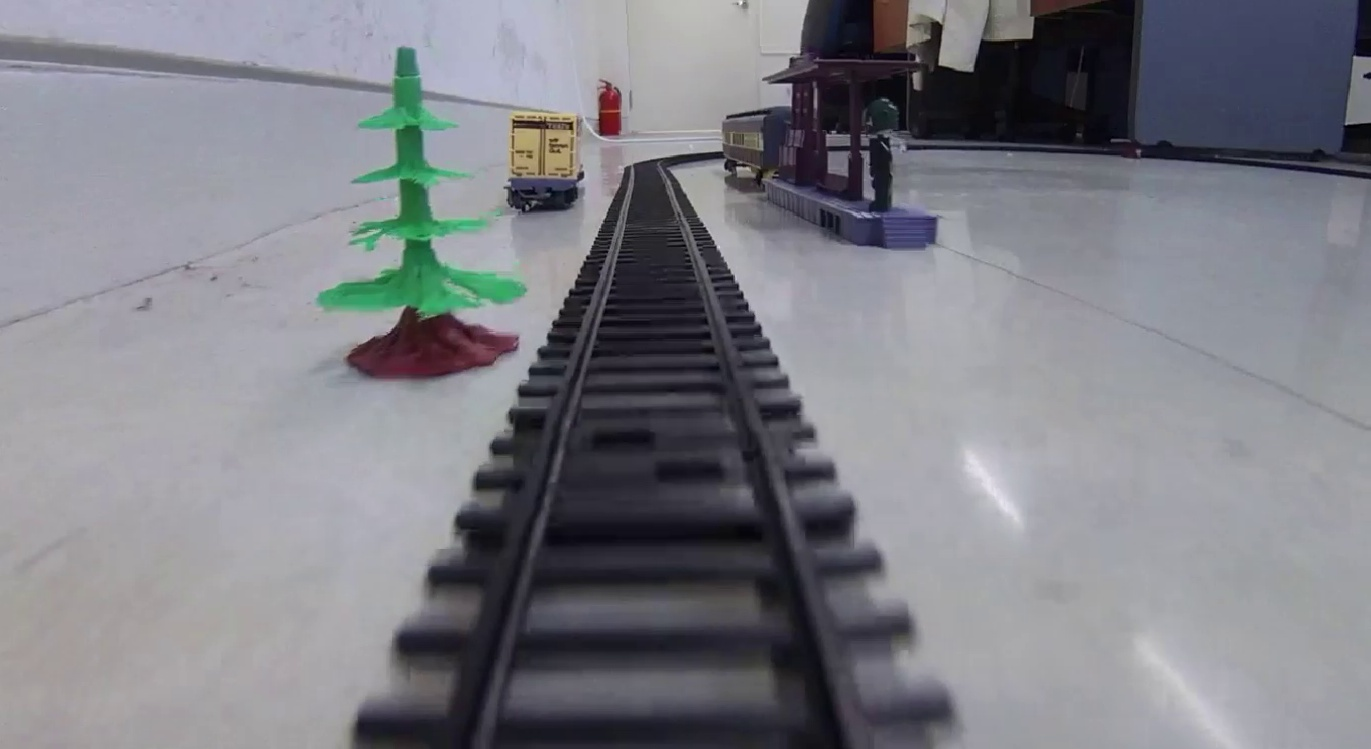people: (865, 99, 899, 211)
tree: (315, 44, 524, 382)
